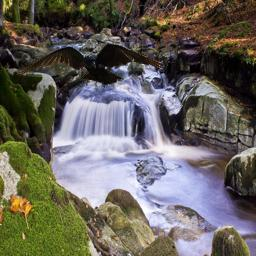Crow: (17, 42, 165, 93)
